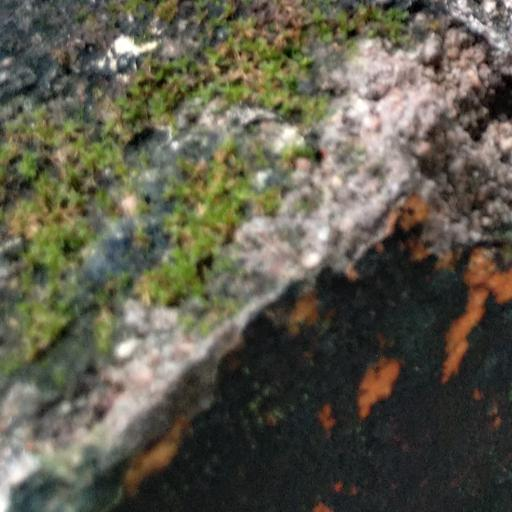algae: (4, 4, 512, 512)
